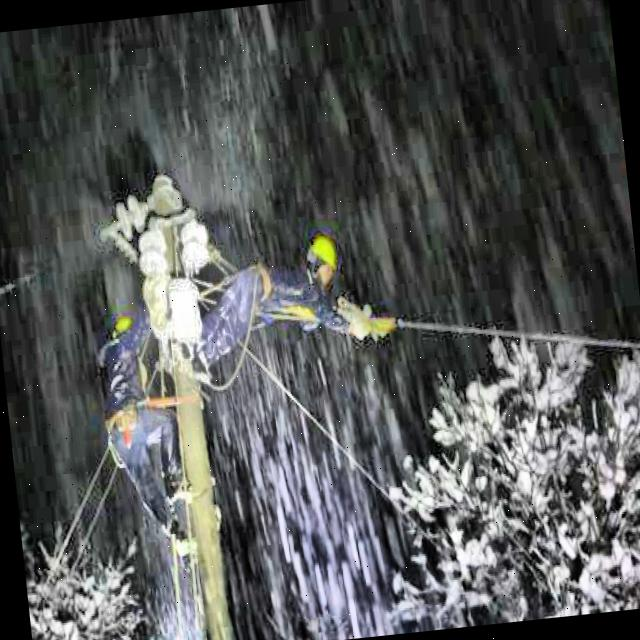helmet: (296, 231, 342, 292), (110, 309, 142, 362)
